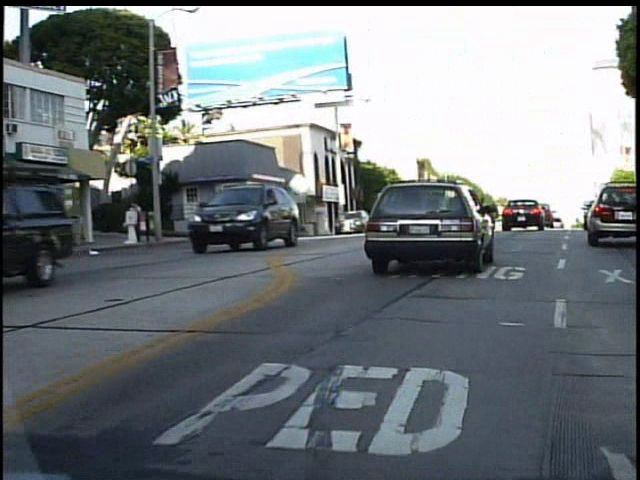person: (132, 197, 156, 243)
